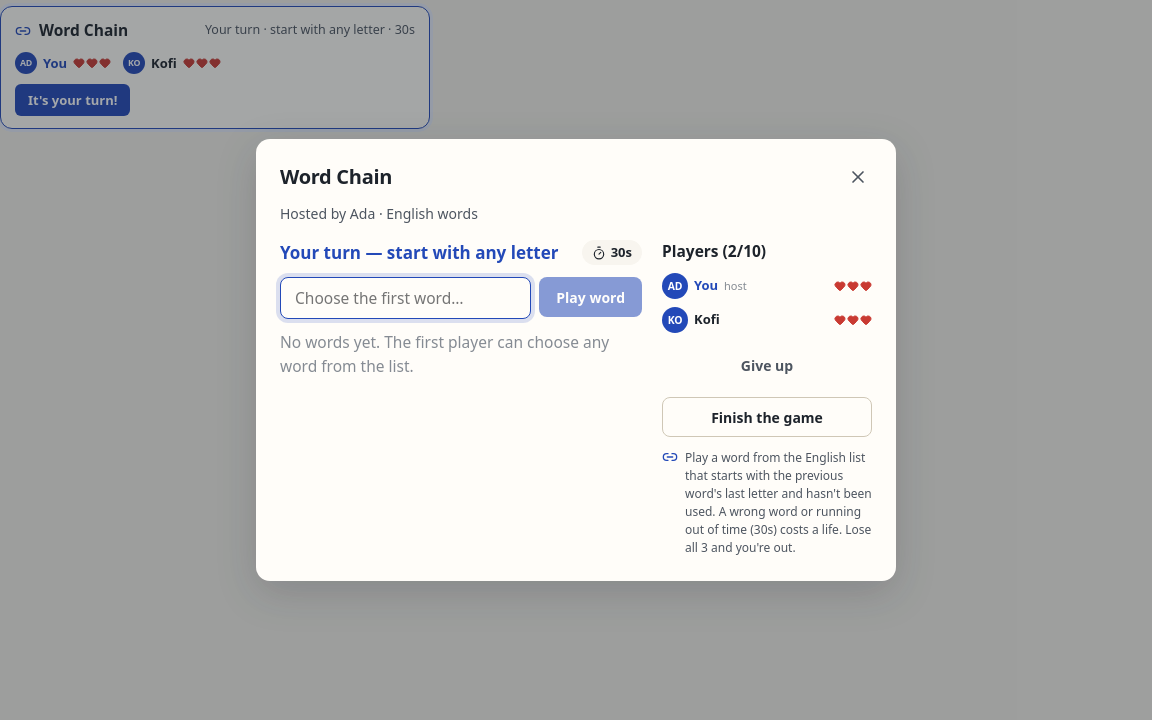
it: Word Chain › shows the turn in the chat card and submits a word from the modal
The image size is (1152, 720).
Expected: the text "Your turn · start with any letter · 30s" is shown, [205, 21, 415, 40]
Type "apple" into the field named "Your word". click: (406, 298)
box: [280, 277, 531, 319]
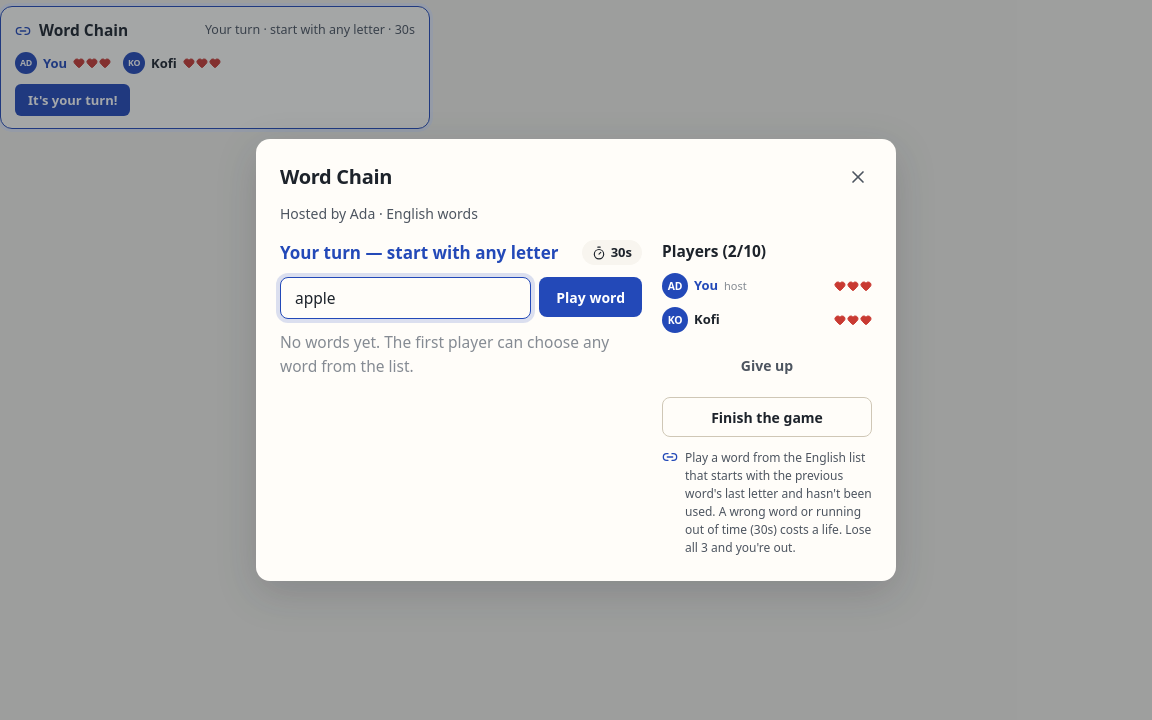
Click the button "Play word". click: (591, 297)
box: [539, 277, 642, 317]
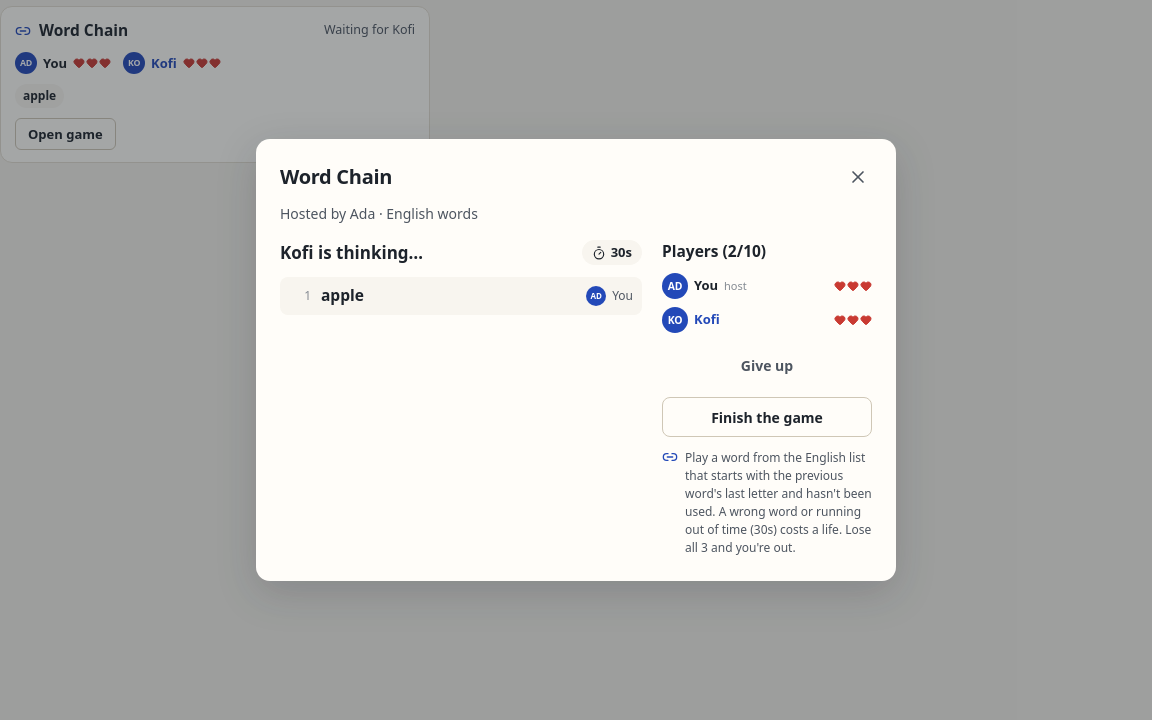
Expected: the text "Kofi is thinking…" is shown, [280, 240, 423, 265]
